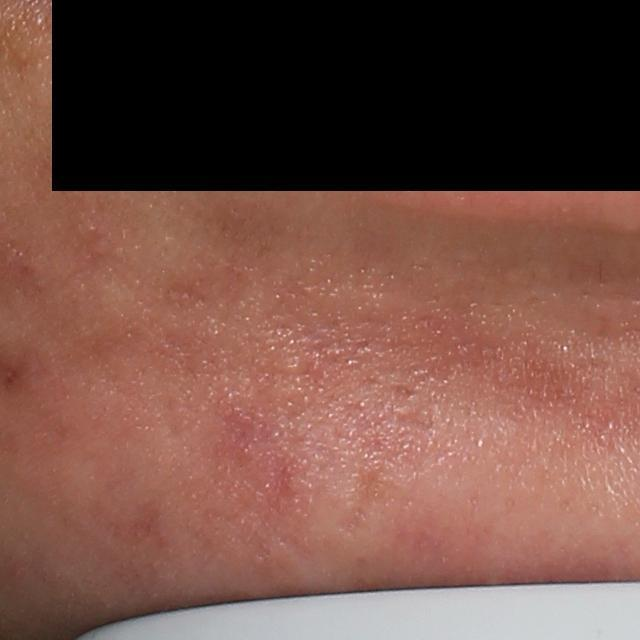atrophic_scar: (333, 455, 392, 538), (387, 381, 413, 406)
